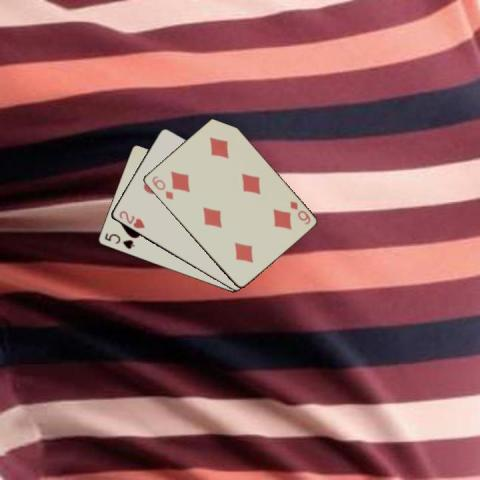2h: (116, 207, 146, 230)
5s: (101, 230, 136, 251)
6d: (148, 173, 175, 201), (287, 198, 312, 226)
